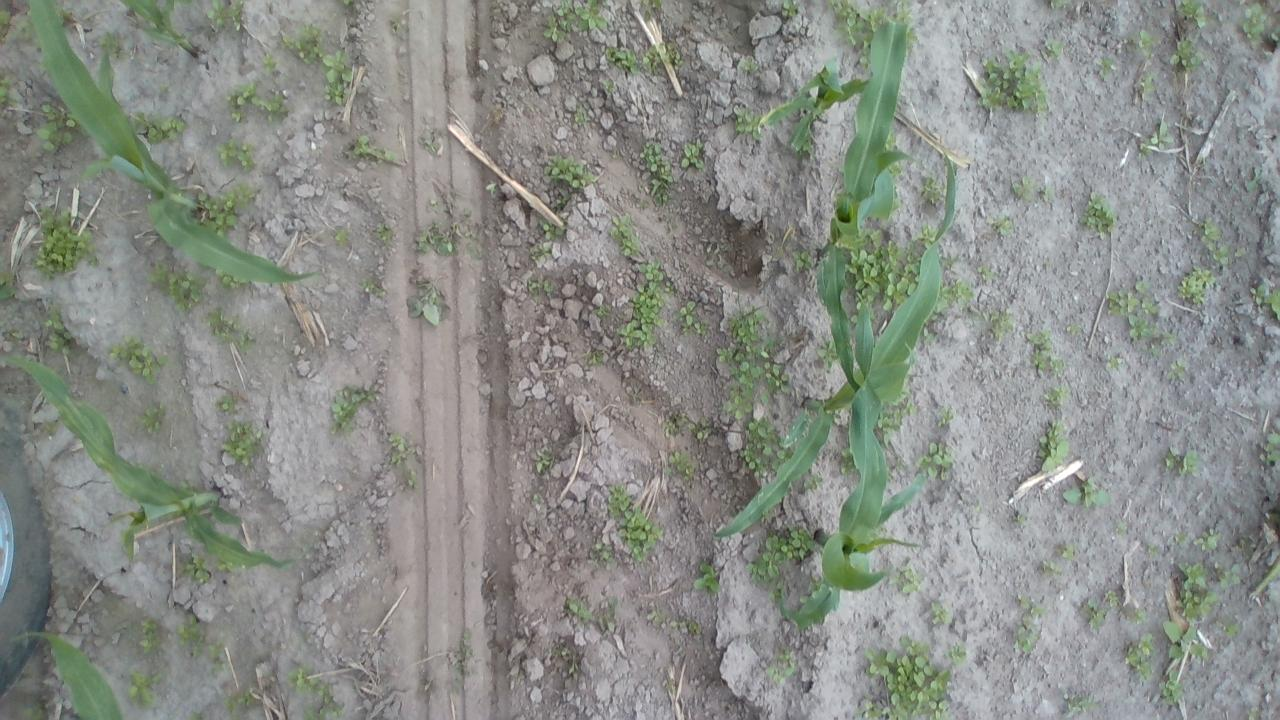Maize: (712, 146, 958, 538), (26, 0, 318, 283), (0, 354, 294, 570), (774, 302, 930, 634), (824, 20, 910, 394), (754, 56, 876, 152), (13, 630, 126, 720), (126, 0, 204, 58)
Weeds: (715, 301, 793, 418), (606, 208, 668, 354), (862, 637, 952, 720), (982, 32, 1052, 114), (35, 198, 102, 278), (1098, 278, 1174, 346), (854, 228, 915, 312), (606, 482, 668, 561), (742, 524, 812, 586), (732, 416, 789, 474), (190, 183, 258, 231), (107, 335, 169, 385), (220, 74, 284, 122), (148, 258, 208, 308), (326, 384, 382, 436), (538, 2, 613, 40), (1250, 509, 1280, 602), (634, 136, 676, 200), (410, 221, 483, 256), (217, 420, 268, 470), (1176, 561, 1218, 620), (32, 103, 79, 154), (382, 428, 422, 486), (204, 308, 258, 350), (1160, 618, 1210, 662), (130, 110, 193, 144), (1124, 632, 1160, 686), (1034, 419, 1072, 470), (874, 403, 920, 445), (280, 22, 321, 68), (322, 49, 355, 105), (216, 133, 258, 176), (1074, 194, 1121, 232), (39, 302, 73, 354), (546, 156, 595, 192), (406, 282, 447, 324), (1179, 264, 1216, 310), (832, 0, 868, 47), (914, 442, 956, 482), (349, 132, 398, 166), (762, 644, 798, 690), (1248, 274, 1280, 324), (224, 682, 266, 720), (1027, 329, 1063, 373), (1061, 478, 1112, 509), (1138, 116, 1175, 156), (1162, 443, 1206, 476), (1200, 216, 1228, 266), (868, 2, 918, 28), (125, 670, 159, 708), (1058, 692, 1104, 720), (204, 1, 246, 31), (1166, 38, 1204, 70), (938, 282, 973, 316), (284, 666, 326, 694), (1172, 0, 1211, 30), (1076, 598, 1106, 636), (1014, 616, 1042, 656), (136, 402, 168, 437), (1158, 669, 1186, 708), (96, 25, 129, 58), (883, 566, 919, 596), (677, 299, 708, 333), (677, 137, 711, 168), (664, 449, 699, 478), (136, 616, 164, 652), (731, 103, 759, 138), (298, 698, 342, 720), (918, 171, 944, 208), (178, 552, 208, 584), (1242, 2, 1268, 36), (601, 48, 636, 73), (177, 623, 207, 652), (694, 562, 724, 591), (926, 603, 958, 630), (989, 308, 1016, 340), (1213, 561, 1243, 589), (662, 412, 692, 440), (596, 596, 618, 633), (1133, 28, 1162, 56), (1167, 360, 1197, 387), (1258, 432, 1280, 468), (1016, 593, 1047, 618), (1041, 384, 1072, 409), (535, 218, 566, 242), (1196, 528, 1224, 553), (692, 423, 720, 447), (663, 40, 685, 69), (580, 346, 610, 367), (588, 72, 614, 96), (977, 262, 1004, 285), (820, 342, 840, 373), (837, 449, 857, 480), (568, 602, 594, 625), (1056, 541, 1084, 562), (531, 450, 554, 474), (795, 251, 819, 274), (586, 543, 612, 564), (372, 223, 398, 244), (1042, 36, 1070, 55), (0, 10, 16, 42), (989, 212, 1010, 236), (1094, 55, 1114, 80), (915, 221, 934, 247), (1141, 68, 1160, 94), (217, 269, 244, 287), (0, 270, 16, 300), (641, 44, 658, 72), (1, 330, 26, 349), (1120, 604, 1146, 622), (932, 410, 958, 428), (1036, 560, 1063, 577), (388, 9, 406, 34), (889, 449, 906, 475), (1101, 352, 1124, 371), (1245, 168, 1263, 192), (941, 250, 962, 270), (216, 396, 237, 416), (949, 644, 970, 664), (1218, 618, 1240, 637), (642, 0, 668, 16), (806, 472, 828, 490), (1014, 176, 1034, 194), (778, 0, 798, 18), (742, 56, 762, 74), (530, 244, 552, 260), (574, 105, 592, 124), (333, 226, 350, 246), (0, 76, 12, 104), (1238, 534, 1256, 552), (258, 53, 278, 69), (1040, 178, 1054, 200), (1048, 0, 1075, 11), (646, 610, 667, 624), (18, 23, 34, 41), (358, 278, 378, 292), (1114, 518, 1131, 534), (1104, 589, 1120, 606), (526, 278, 542, 294), (593, 304, 609, 320), (210, 654, 228, 668), (599, 78, 616, 92), (1012, 513, 1030, 526), (1174, 529, 1190, 543), (1062, 323, 1080, 335), (1146, 541, 1162, 554), (216, 561, 234, 572), (686, 622, 700, 636), (205, 637, 221, 649), (1248, 704, 1260, 720), (769, 587, 780, 602), (190, 710, 206, 720), (160, 82, 172, 93), (1235, 246, 1245, 259), (562, 646, 574, 656), (339, 0, 358, 4)
